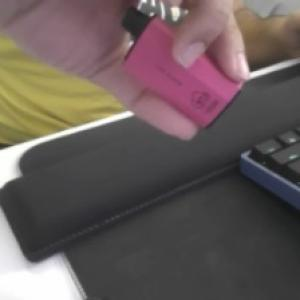Blume-E-Ciggirate: (121, 2, 244, 130)
